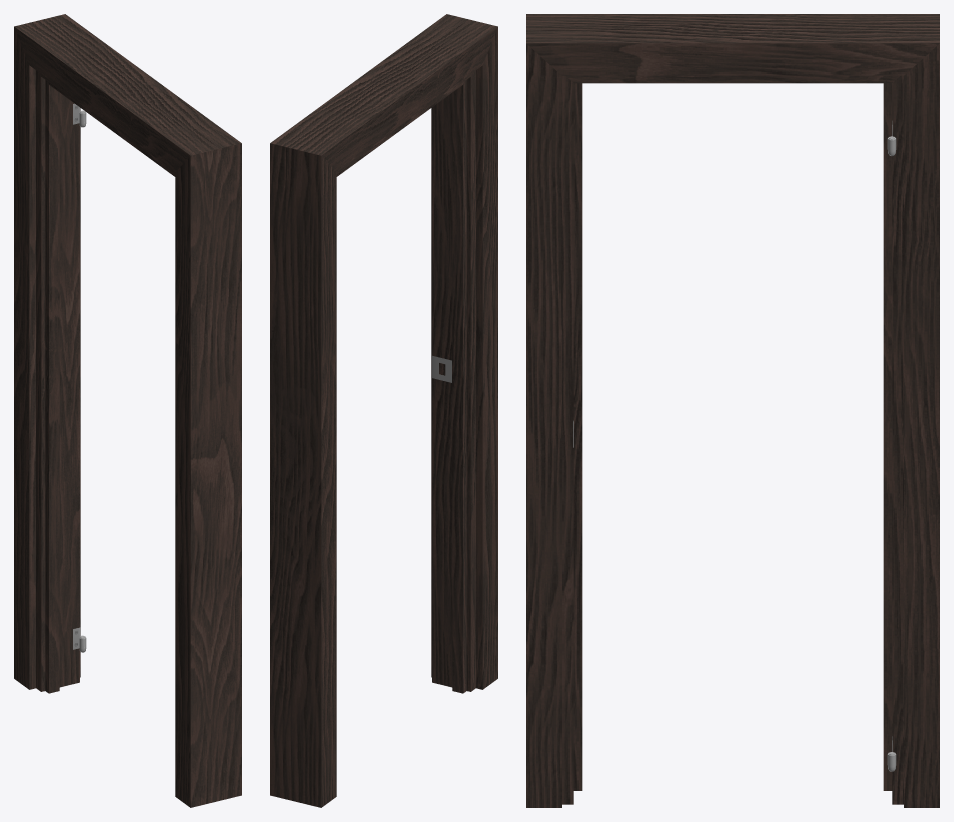
File: door 1 frame.glb
3 renders of one model, left to right at view 1: azimuth 30°, elevation 25°; view 2: azimuth 150°, elevation 25°; view 3: azimuth 270°, elevation 25°, orthographic. The views are drawn at different scales.
Visible parts, largest first — view 1: D1-Frame; view 2: D1-Frame; view 3: D1-Frame.
Boxes of the visible parts, left/top/right/bottom form: D1-Frame: left=14, top=14, right=241, bottom=807; D1-Frame: left=270, top=14, right=497, bottom=807; D1-Frame: left=526, top=14, right=939, bottom=807.
Bounding box in the file's own units: 0.4354 × 5.3 × 2.6.
Materials: 1 (1 with a texture image).
